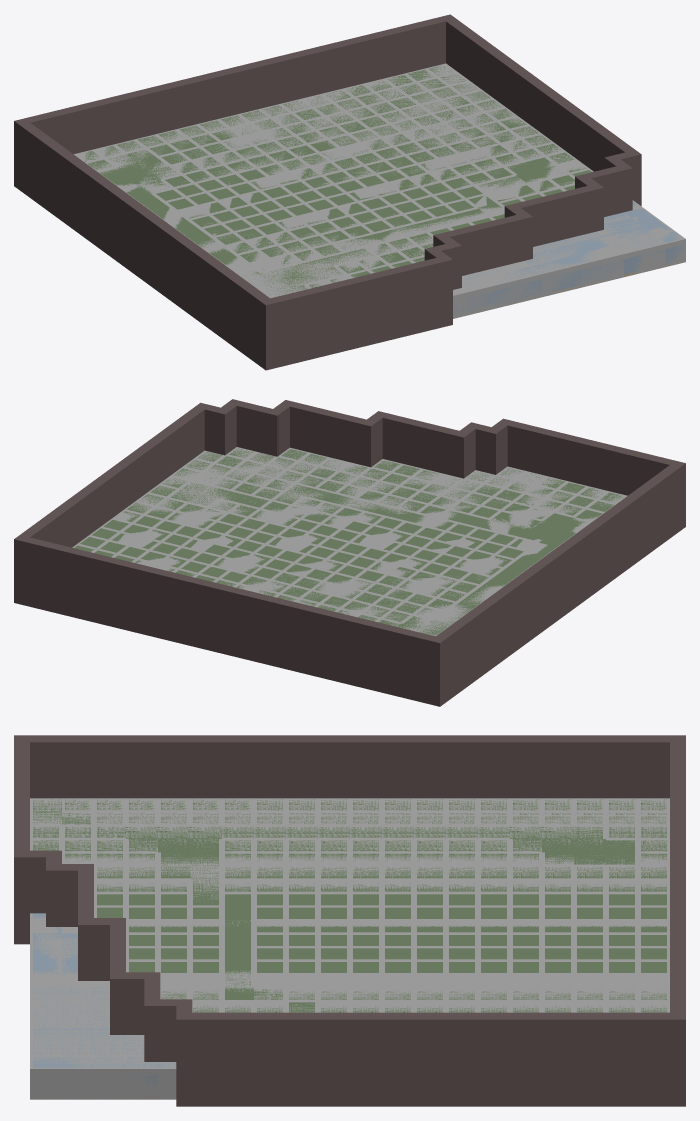
Rendered from level_0.fbx.
The picture shows the model from 3 angles, top to bottom: view 1: azimuth 30°, elevation 25°; view 2: azimuth 150°, elevation 25°; view 3: azimuth 270°, elevation 25°; orthographic projection. The views are drawn at different scales.
Visible parts, largest first — view 1: level_0_limit_walls, level_0_mesh, water; view 2: level_0_limit_walls, level_0_mesh; view 3: level_0_limit_walls, level_0_mesh, water.
Boxes of the visible parts, box(x1,y1,x2,y2) form: level_0_limit_walls: box(14, 14, 641, 370); level_0_mesh: box(74, 63, 685, 318); water: box(453, 202, 684, 314); level_0_limit_walls: box(14, 399, 685, 706); level_0_mesh: box(72, 447, 627, 635); level_0_limit_walls: box(14, 735, 685, 1106); level_0_mesh: box(30, 798, 669, 1099); water: box(33, 913, 176, 1089).
Bounding box in the file's own units: 2101 × 300 × 2100.
